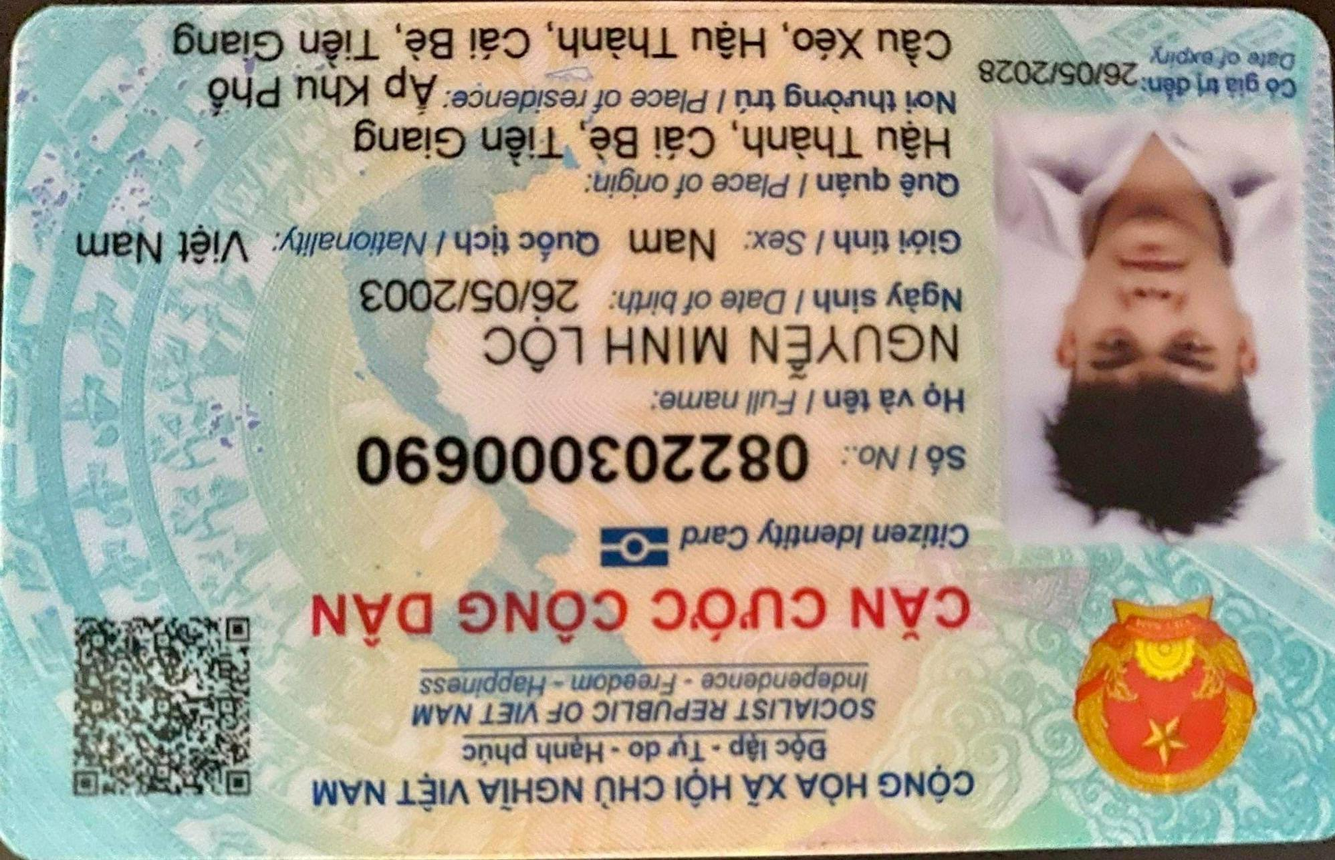ID: (520, 351, 997, 440)
birth: (739, 530, 985, 588)
name: (366, 481, 878, 540)
place: (374, 692, 992, 740)
residence: (376, 782, 1180, 846), (889, 735, 1135, 792)
